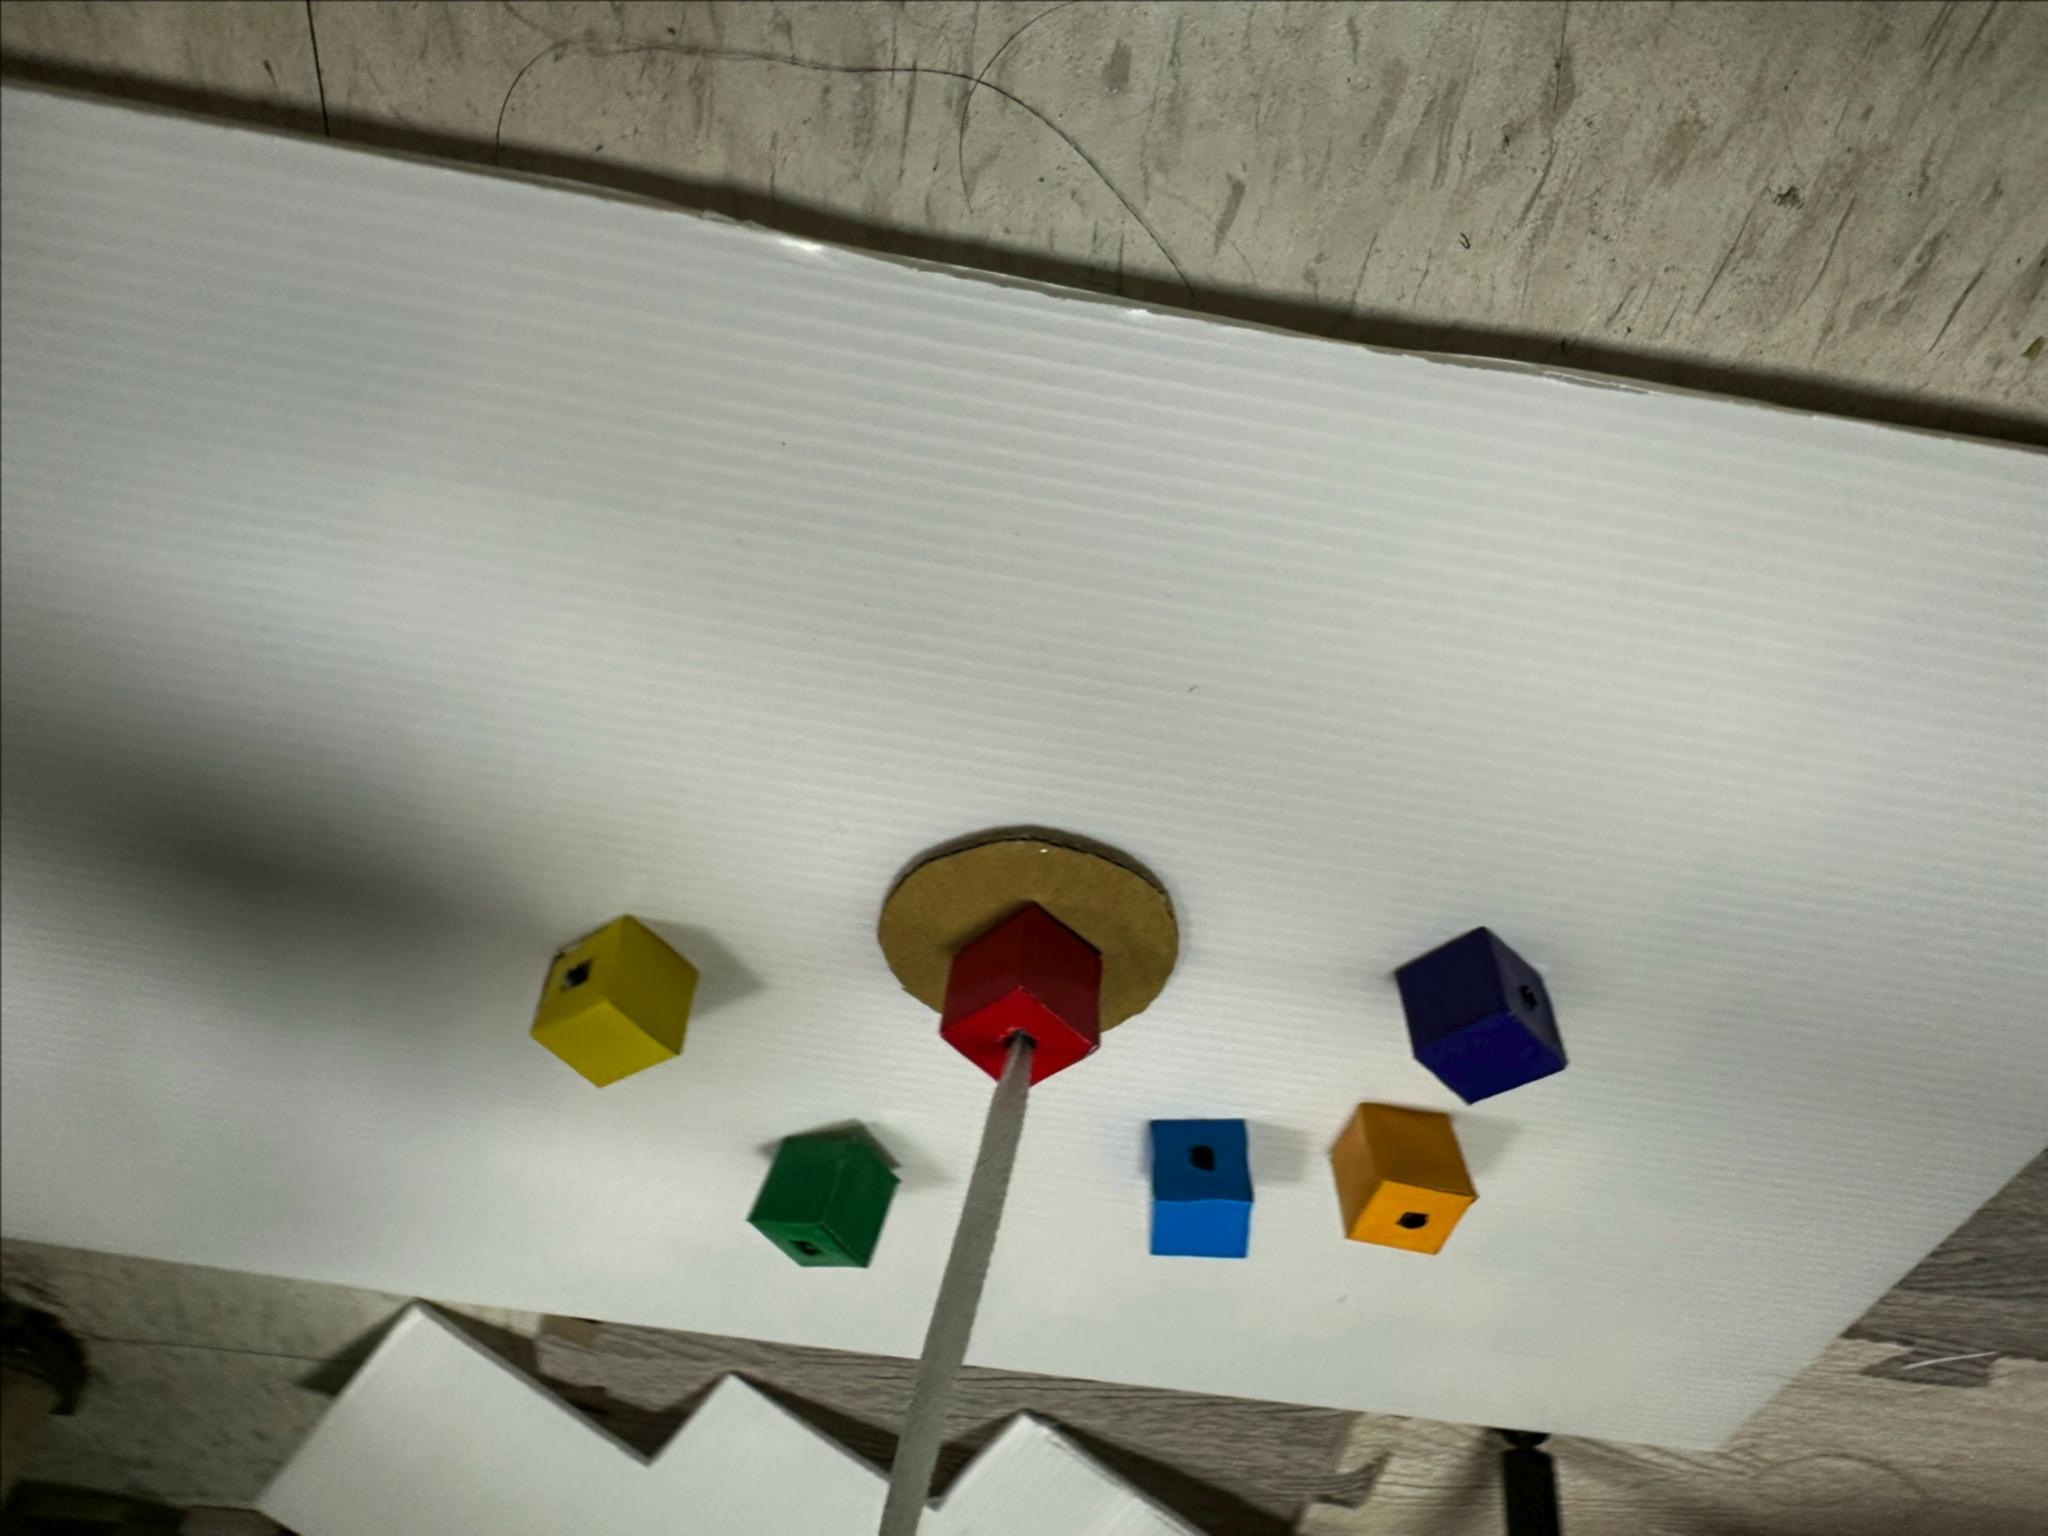base: (877, 837, 1177, 1026)
cube: (1393, 928, 1566, 1104), (940, 904, 1101, 1083), (531, 916, 695, 1084), (1329, 1104, 1476, 1252), (748, 1133, 897, 1265), (1148, 1120, 1251, 1257)
